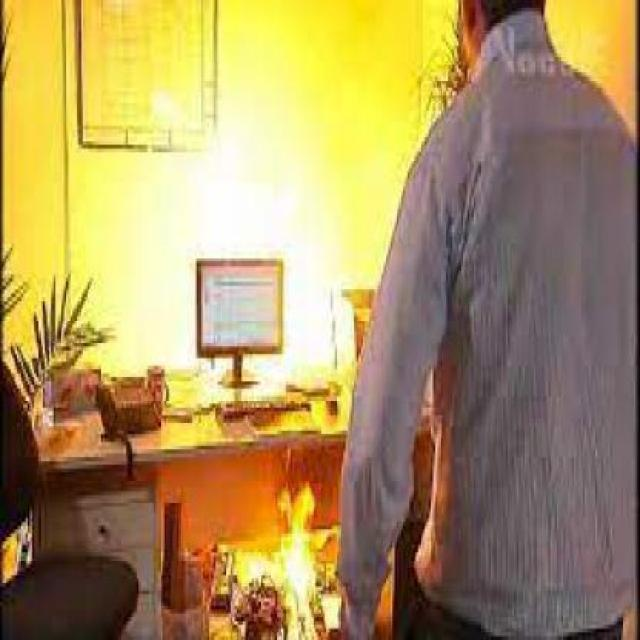Fire: (243, 471, 334, 637)
